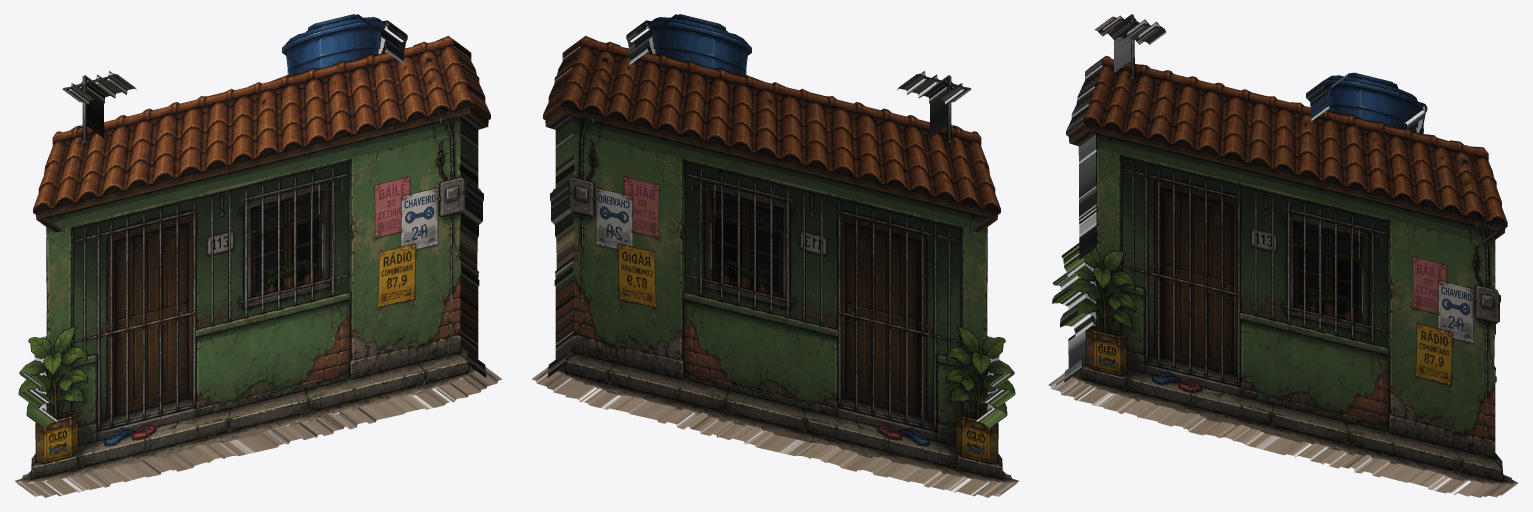
Rendered from house_08_front.glb.
3 renders of one model, left to right at view 1: azimuth 30°, elevation 25°; view 2: azimuth 150°, elevation 25°; view 3: azimuth 330°, elevation 25°, orthographic. The views are drawn at different scales.
Visible parts, largest first — view 1: world; view 2: world; view 3: world.
Boxes of the visible parts, x1,y1,x2,y2 form: world: (15,14,502,497); world: (531,14,1018,497); world: (1048,14,1518,497).
Bounding box in the file's own units: 8.14 × 6.65 × 0.5328.
1 material, 1 textured.
